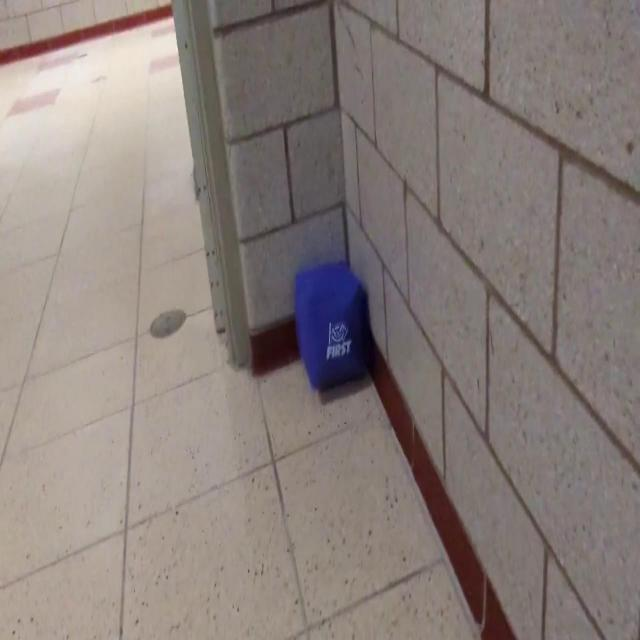frc_cube: (296, 261, 366, 394)
